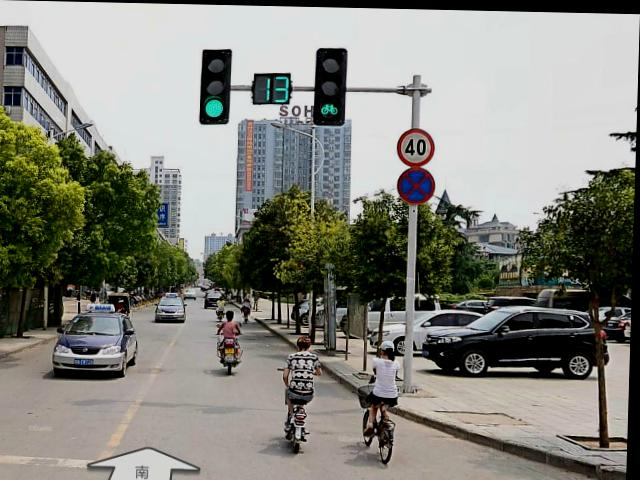limit40: (396, 125, 437, 165)
